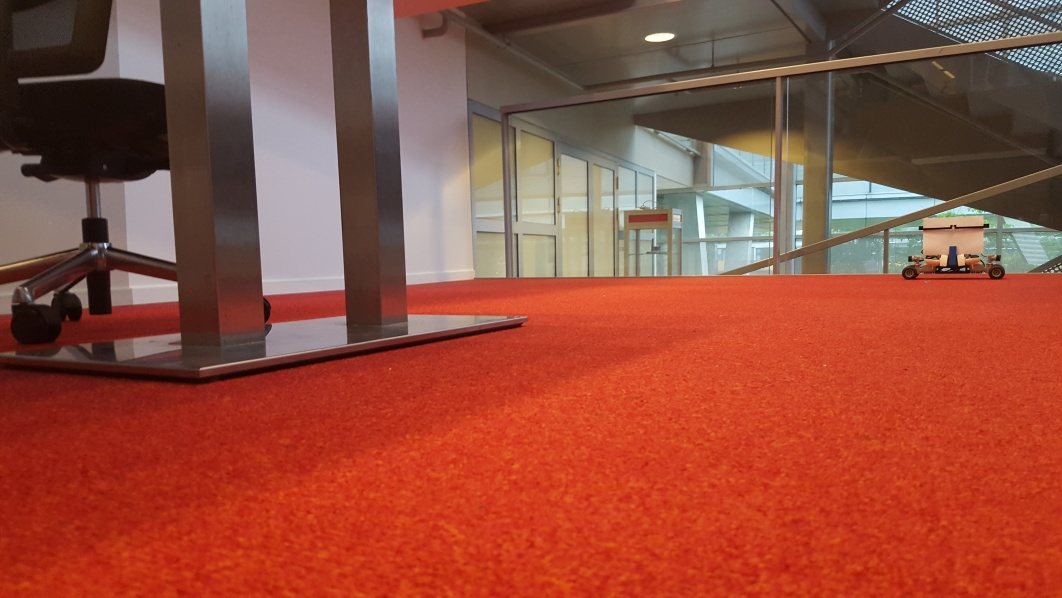car: (902, 217, 1007, 284)
